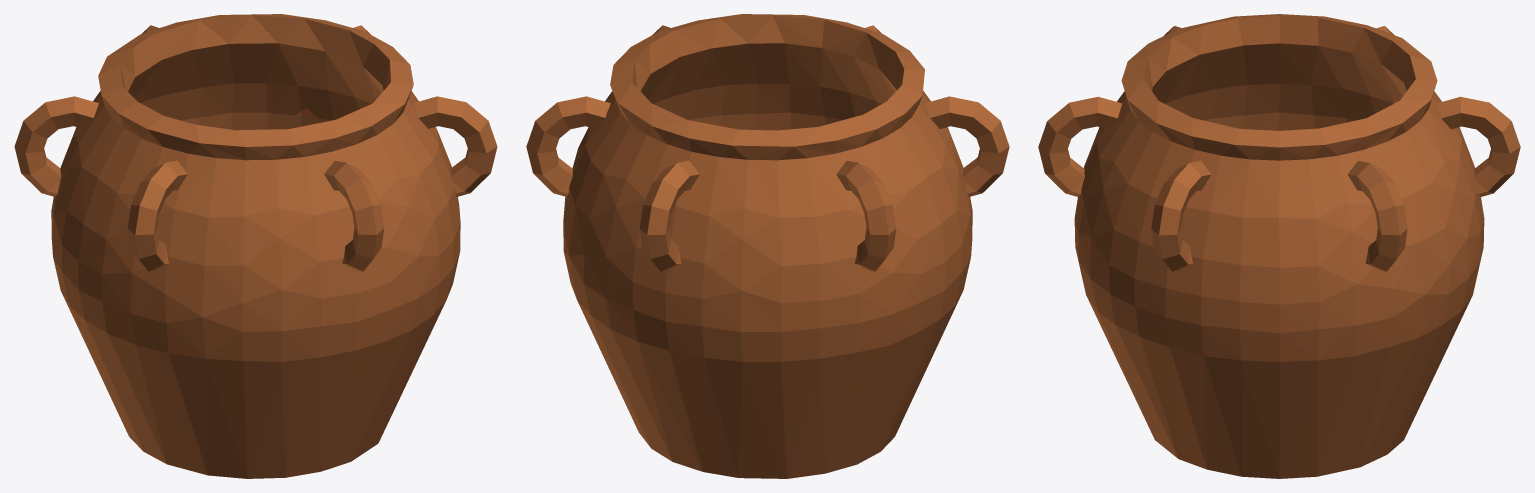
The model's file is Pottery 1_2b.fbx.
3 views of the same model, side by side, from view 1: azimuth 30°, elevation 25°; view 2: azimuth 150°, elevation 25°; view 3: azimuth 270°, elevation 25° (orthographic).
Parts seen in each view (by area): view 1: Pottery 1_2c.002, Pottery 1_2c.006, Pottery 1_2c.001, Pottery 1_2c.003, Pottery 1_2c.005, Pottery 1_2c.004, Pottery 1_2c; view 2: Pottery 1_2c.005, Pottery 1_2c.004, Pottery 1_2c.003, Pottery 1_2c.007, Pottery 1_2c.001, Pottery 1_2c, Pottery 1_2c.002, Pottery 1_2c.006; view 3: Pottery 1_2c.003, Pottery 1_2c.007, Pottery 1_2c.002, Pottery 1_2c.001, Pottery 1_2c.004, Pottery 1_2c.006, Pottery 1_2c, Pottery 1_2c.005.
Boxes of the visible parts, <box> form: Pottery 1_2c.002: <box>81,87,311,360</box>; Pottery 1_2c.006: <box>95,182,460,458</box>; Pottery 1_2c.001: <box>257,77,428,324</box>; Pottery 1_2c.003: <box>219,14,497,221</box>; Pottery 1_2c.005: <box>14,47,141,358</box>; Pottery 1_2c.004: <box>115,15,305,130</box>; Pottery 1_2c: <box>93,353,402,478</box>; Pottery 1_2c.005: <box>709,115,970,423</box>; Pottery 1_2c.004: <box>575,113,781,341</box>; Pottery 1_2c.003: <box>526,18,757,221</box>; Pottery 1_2c.007: <box>563,204,756,436</box>; Pottery 1_2c.001: <box>709,14,899,128</box>; Pottery 1_2c: <box>628,367,920,478</box>; Pottery 1_2c.002: <box>863,44,1009,256</box>; Pottery 1_2c.006: <box>715,88,970,381</box>; Pottery 1_2c.003: <box>1131,88,1430,333</box>; Pottery 1_2c.007: <box>1161,242,1472,444</box>; Pottery 1_2c.002: <box>1141,14,1323,129</box>; Pottery 1_2c.001: <box>1038,45,1203,260</box>; Pottery 1_2c.004: <box>1387,41,1520,293</box>; Pottery 1_2c.006: <box>1076,200,1195,414</box>; Pottery 1_2c: <box>1142,411,1417,478</box>; Pottery 1_2c.005: <box>1259,16,1408,130</box>.
Bounding box in the file's own units: 90.28 × 83.69 × 104.
